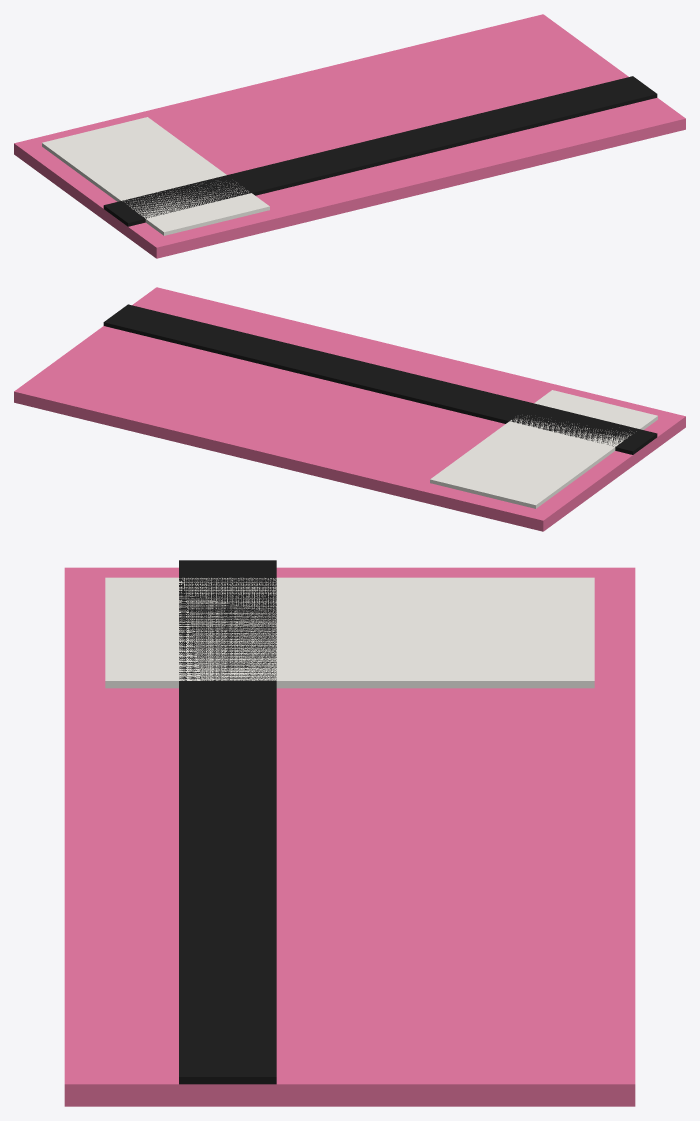
The model's file is stadium_ticket.glb.
The picture shows the model from 3 angles, top to bottom: view 1: azimuth 30°, elevation 25°; view 2: azimuth 150°, elevation 25°; view 3: azimuth 270°, elevation 25°; orthographic projection. The views are drawn at different scales.
Parts seen in each view (by area): view 1: paper_ticket_pink, stripe_ticket_ink, stub_ticket_white; view 2: paper_ticket_pink, stripe_ticket_ink, stub_ticket_white; view 3: paper_ticket_pink, stub_ticket_white, stripe_ticket_ink.
Boxes of the visible parts, <box> form: paper_ticket_pink: <box>14,14,685,258</box>; stripe_ticket_ink: <box>103,76,657,226</box>; stub_ticket_white: <box>42,117,269,235</box>; paper_ticket_pink: <box>14,287,685,531</box>; stripe_ticket_ink: <box>103,304,657,454</box>; stub_ticket_white: <box>430,390,657,508</box>; paper_ticket_pink: <box>64,567,635,1106</box>; stub_ticket_white: <box>105,577,594,688</box>; stripe_ticket_ink: <box>179,560,276,1084</box>.
Bounding box in the file's own units: 0.15 × 0.004 × 0.07.
